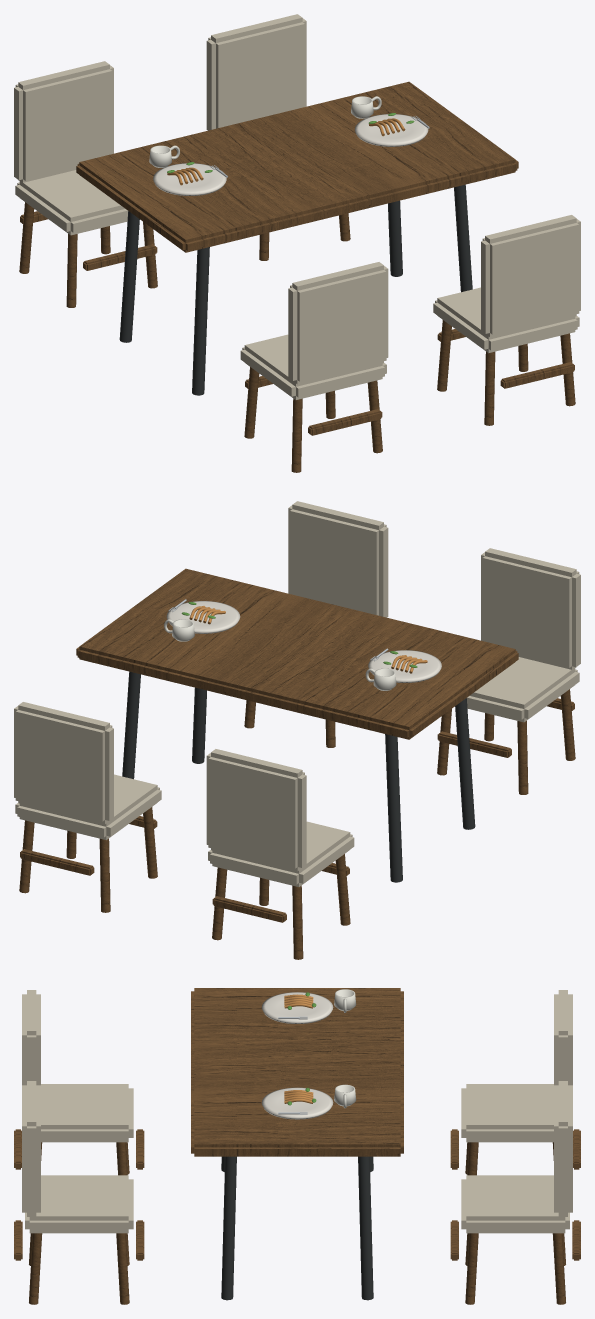
The model's file is cafe_table.glb.
The picture shows the model from 3 angles, top to bottom: view 1: azimuth 30°, elevation 25°; view 2: azimuth 150°, elevation 25°; view 3: azimuth 270°, elevation 25°; orthographic projection. The views are drawn at different scales.
Visible parts, largest first — view 1: cafe_table_CC0_Oak_veneer, cafe_table_Woven_1.002, cafe_table_Woven_1.001, cafe_table_Woven_1.003, cafe_table_Woven_1.004, cafe_table_Anodised_graphite, cafe_table_CC0_Oak_veneer.003, cafe_table_CC0_Oak_veneer.001, cafe_table_CC0_Oak_veneer.002, cafe_table_FY21_chalk_lacquer.001, cafe_table_FY21_chalk_lacquer; view 2: cafe_table_CC0_Oak_veneer, cafe_table_Woven_1.001, cafe_table_Woven_1.002, cafe_table_Woven_1.004, cafe_table_Woven_1.003, cafe_table_Anodised_graphite, cafe_table_CC0_Oak_veneer.004, cafe_table_CC0_Oak_veneer.002, cafe_table_CC0_Oak_veneer.001, cafe_table_FY21_chalk_lacquer.001, cafe_table_FY21_chalk_lacquer; view 3: cafe_table_CC0_Oak_veneer, cafe_table_Woven_1.003, cafe_table_Woven_1.004, cafe_table_Woven_1.001, cafe_table_Woven_1.002, cafe_table_Anodised_graphite, cafe_table_CC0_Oak_veneer.003, cafe_table_CC0_Oak_veneer.004, cafe_table_FY21_chalk_lacquer.001, cafe_table_FY21_chalk_lacquer, cafe_table_CC0_Oak_veneer.001, cafe_table_CC0_Oak_veneer.002 (+2 smaller).
Boxes of the visible parts, left/top/right/bottom form: cafe_table_CC0_Oak_veneer: left=76, top=81, right=518, bottom=252; cafe_table_Woven_1.002: left=14, top=61, right=128, bottom=235; cafe_table_Woven_1.001: left=240, top=262, right=388, bottom=399; cafe_table_Woven_1.003: left=433, top=215, right=580, bottom=353; cafe_table_Woven_1.004: left=206, top=14, right=306, bottom=130; cafe_table_Anodised_graphite: left=119, top=184, right=472, bottom=395; cafe_table_CC0_Oak_veneer.003: left=437, top=320, right=575, bottom=425; cafe_table_CC0_Oak_veneer.001: left=244, top=367, right=382, bottom=472; cafe_table_CC0_Oak_veneer.002: left=19, top=202, right=157, bottom=307; cafe_table_FY21_chalk_lacquer.001: left=354, top=114, right=428, bottom=146; cafe_table_FY21_chalk_lacquer: left=153, top=163, right=226, bottom=195; cafe_table_CC0_Oak_veneer: left=76, top=568, right=518, bottom=739; cafe_table_Woven_1.001: left=466, top=548, right=580, bottom=722; cafe_table_Woven_1.002: left=206, top=749, right=354, bottom=886; cafe_table_Woven_1.004: left=14, top=702, right=161, bottom=840; cafe_table_Woven_1.003: left=288, top=501, right=388, bottom=617; cafe_table_Anodised_graphite: left=122, top=671, right=475, bottom=882; cafe_table_CC0_Oak_veneer.004: left=19, top=807, right=157, bottom=912; cafe_table_CC0_Oak_veneer.002: left=212, top=854, right=350, bottom=959; cafe_table_CC0_Oak_veneer.001: left=437, top=689, right=575, bottom=794; cafe_table_FY21_chalk_lacquer.001: left=166, top=601, right=240, bottom=633; cafe_table_FY21_chalk_lacquer: left=368, top=650, right=441, bottom=682; cafe_table_CC0_Oak_veneer: left=191, top=988, right=403, bottom=1156; cafe_table_Woven_1.003: left=22, top=1081, right=133, bottom=1233; cafe_table_Woven_1.004: left=461, top=1081, right=572, bottom=1233; cafe_table_Woven_1.001: left=22, top=990, right=133, bottom=1142; cafe_table_Woven_1.002: left=461, top=990, right=572, bottom=1142; cafe_table_Anodised_graphite: left=221, top=1156, right=373, bottom=1300; cafe_table_CC0_Oak_veneer.003: left=14, top=1220, right=144, bottom=1304; cafe_table_CC0_Oak_veneer.004: left=450, top=1220, right=580, bottom=1304; cafe_table_FY21_chalk_lacquer.001: left=261, top=1087, right=333, bottom=1119; cafe_table_FY21_chalk_lacquer: left=261, top=992, right=333, bottom=1023; cafe_table_CC0_Oak_veneer.001: left=14, top=1129, right=144, bottom=1175; cafe_table_CC0_Oak_veneer.002: left=450, top=1129, right=580, bottom=1175.
Bounding box in the file's own units: 1.5 × 0.8472 × 2.26.
Materials: 20 (5 with a texture image).
